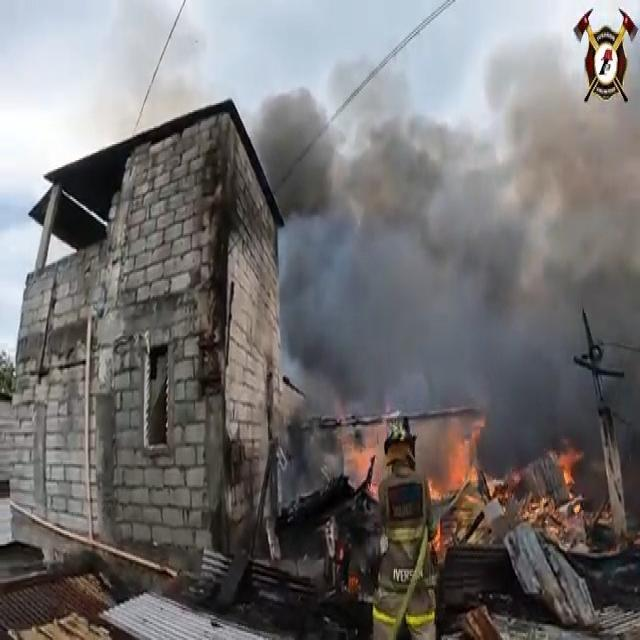Fire: (424, 411, 498, 554), (548, 436, 586, 514), (342, 422, 381, 497)
Smoke: (251, 39, 640, 484)
